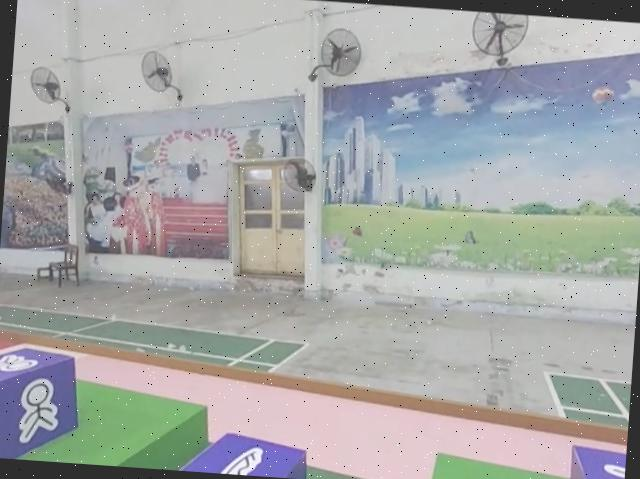R2 Real Blue: (0, 346, 85, 462), (160, 425, 310, 479), (569, 442, 626, 479)
